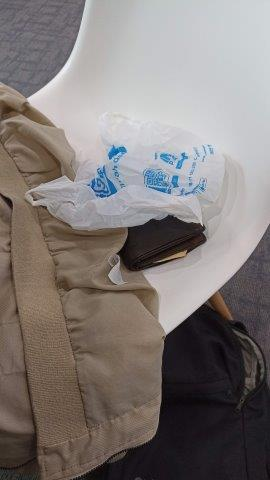plastik: (25, 110, 226, 231)
